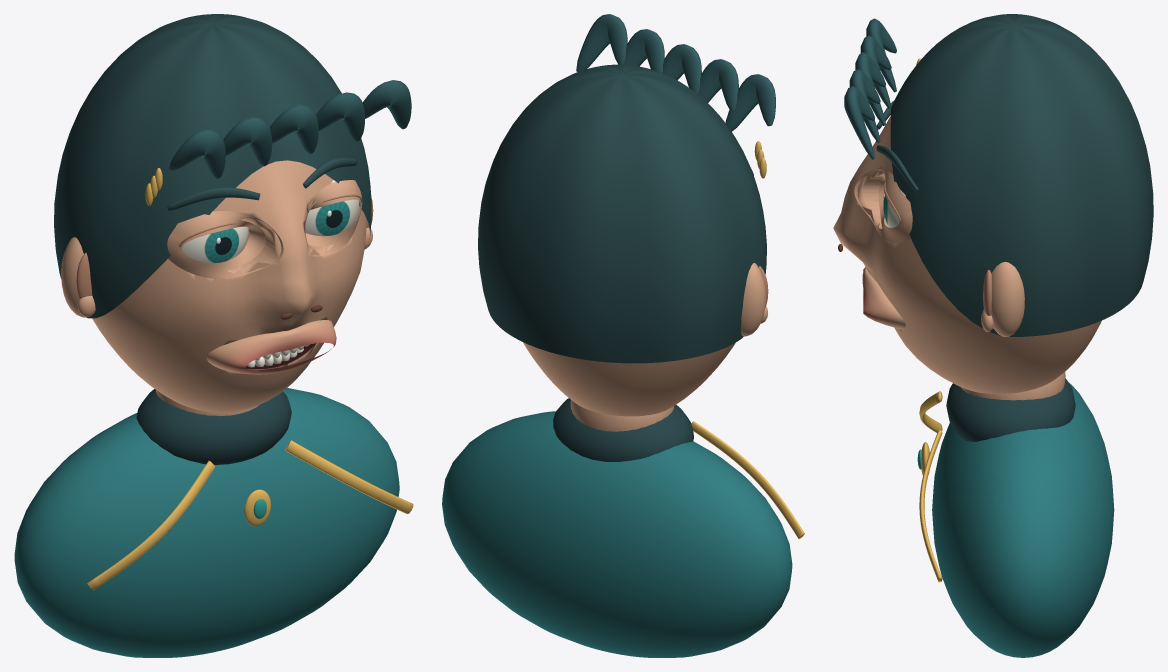
Rendered from source.glb.
The picture shows the model from 3 angles, left to right: view 1: azimuth 30°, elevation 25°; view 2: azimuth 150°, elevation 25°; view 3: azimuth 270°, elevation 25°; orthographic projection. The views are drawn at different scales.
Visible parts, largest first — view 1: Shoulders, Hair, Face, EyeRight, EyeLeft; view 2: Hair, Shoulders, Face; view 3: Hair, Shoulders, Face.
Boxes of the visible parts, <box> form: Shoulders: <box>14,388,413,657</box>; Hair: <box>54,14,411,318</box>; Face: <box>61,157,373,416</box>; EyeRight: <box>182,211,248,263</box>; EyeLeft: <box>305,180,359,236</box>; Hair: <box>478,14,775,363</box>; Shoulders: <box>442,398,804,657</box>; Face: <box>523,167,768,431</box>; Hair: <box>844,14,1153,336</box>; Shoulders: <box>917,378,1114,657</box>; Face: <box>833,101,1101,400</box>.
Bounding box in the file's own units: 0.2678 × 0.4275 × 0.2058.
